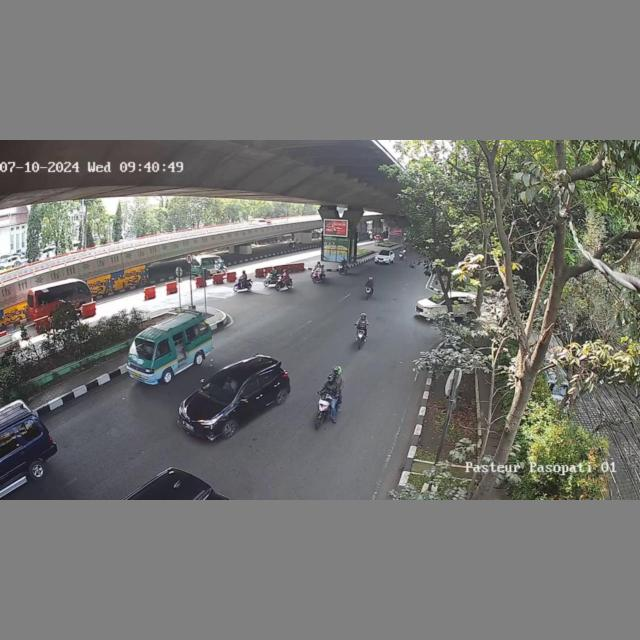windshield: (203, 371, 247, 403), (130, 337, 156, 361)
